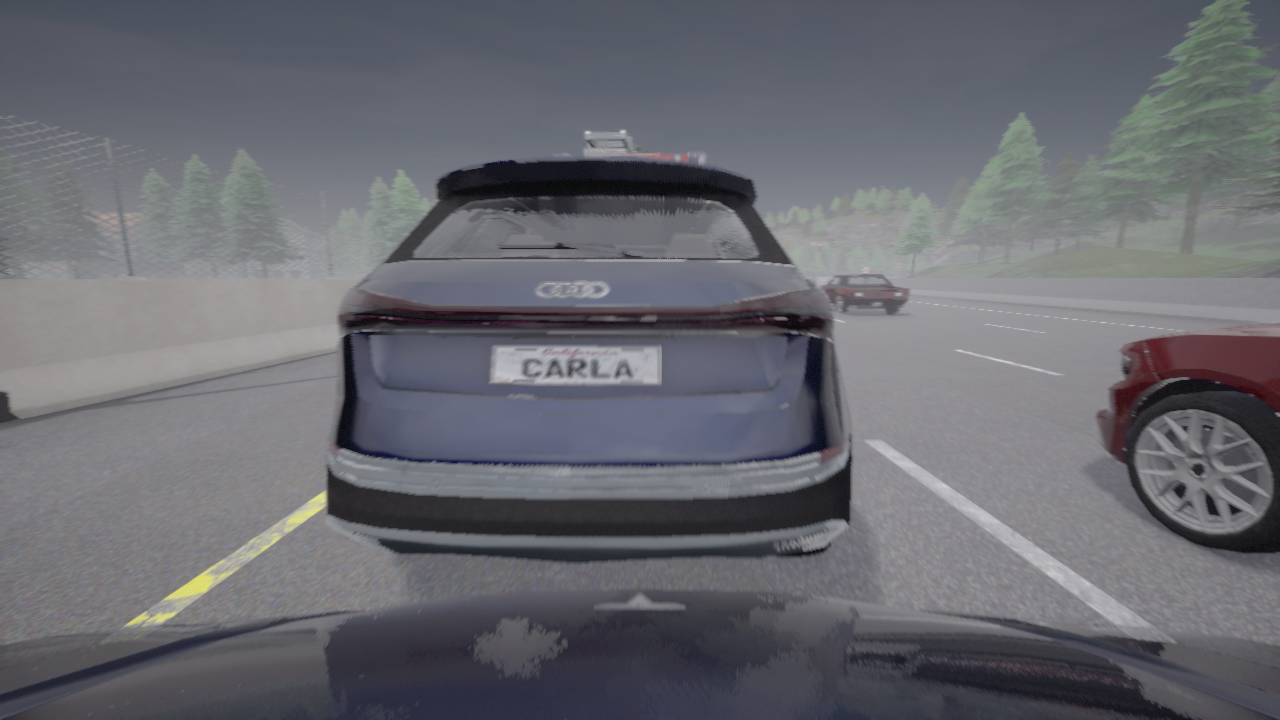cyclist: (326, 156, 852, 563), (0, 588, 1279, 719), (1095, 322, 1279, 553), (554, 130, 705, 163), (818, 275, 908, 313), (805, 276, 817, 284)
